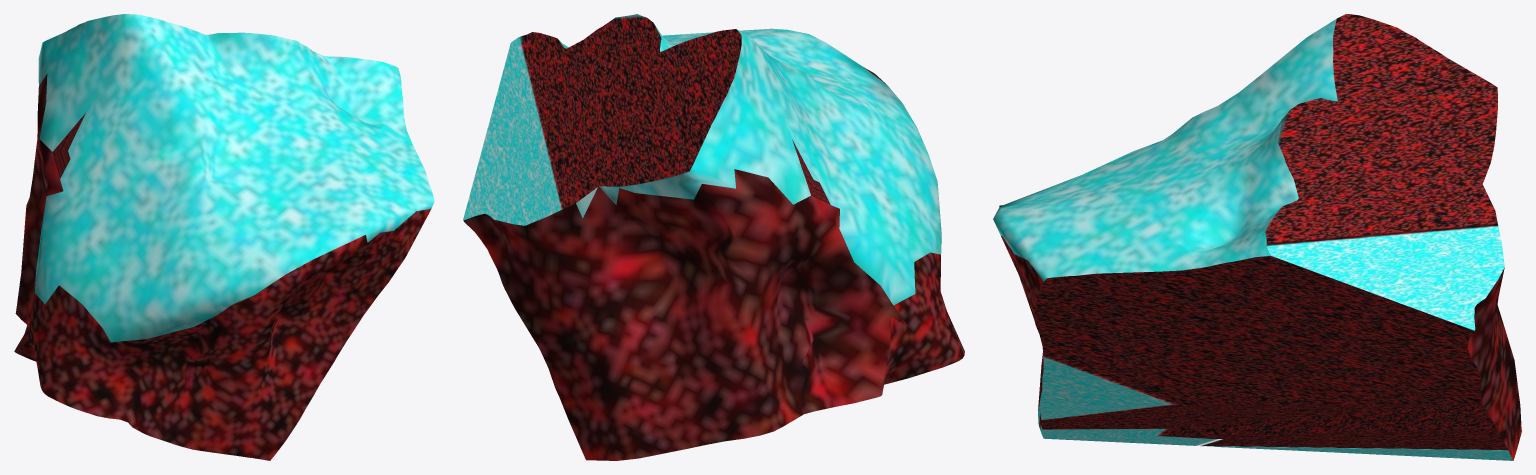
3 renders of one model, left to right at view 1: azimuth 30°, elevation 25°; view 2: azimuth 150°, elevation 25°; view 3: azimuth 270°, elevation 25°, orthographic. The views are drawn at different scales.
Visible parts, largest first — view 1: SM_VFX_Withered_Spike_05_LOD0; view 2: SM_VFX_Withered_Spike_05_LOD0; view 3: SM_VFX_Withered_Spike_05_LOD0.
Part boxes in pixels (x1,y1,x2,y2): SM_VFX_Withered_Spike_05_LOD0: (14,14,434,460); SM_VFX_Withered_Spike_05_LOD0: (463,14,964,460); SM_VFX_Withered_Spike_05_LOD0: (993,14,1521,460).
Size of the model in its own units: 6.57 by 5.89 by 6.78.
1 material, 1 textured.
